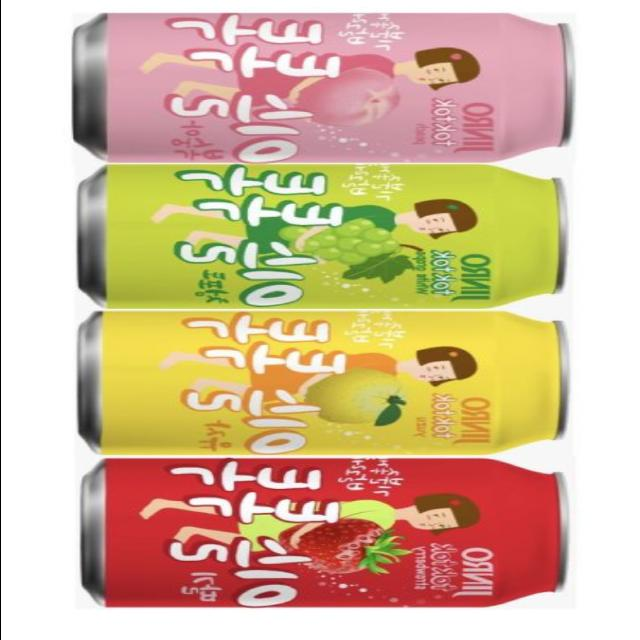can: (58, 454, 602, 626), (55, 7, 618, 169), (62, 306, 622, 462), (66, 158, 614, 315)
